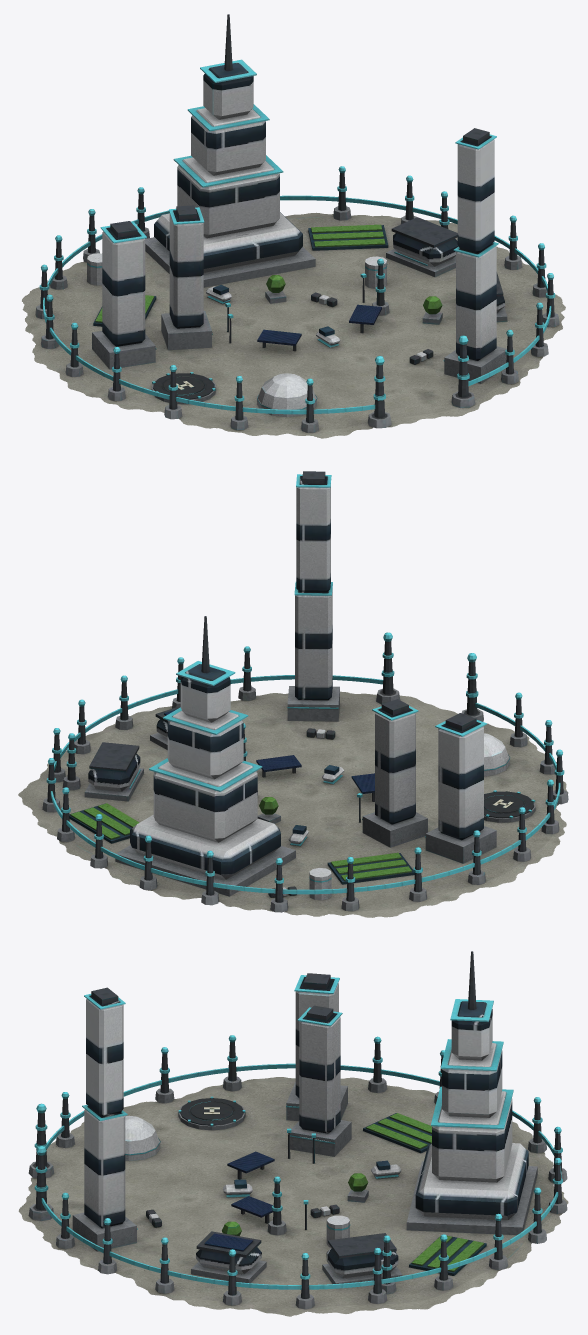
File: future-town-small-a.glb
3 views of the same model, one above another, from view 1: azimuth 30°, elevation 25°; view 2: azimuth 150°, elevation 25°; view 3: azimuth 270°, elevation 25° (orthographic). The views are drawn at different scales.
Visible parts, largest first — view 1: LOD0; view 2: LOD0; view 3: LOD0.
Boxes of the visible parts, x1,y1,x2,y2 form: LOD0: (22, 14, 565, 438); LOD0: (18, 471, 568, 917); LOD0: (18, 951, 568, 1316).
Size of what is drawn, in the model's own units: 3.96 by 1.93 by 3.85.
Materials: 3 (3 with a texture image).
